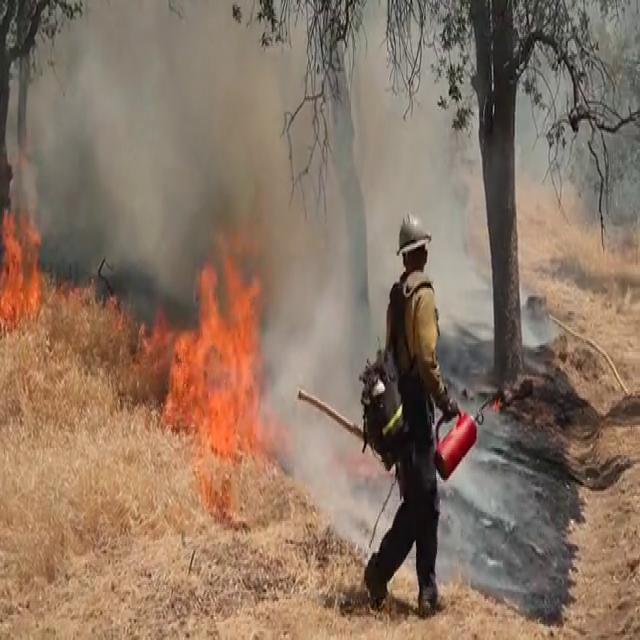fire: (193, 382, 255, 457), (4, 252, 39, 316), (218, 248, 248, 312), (182, 330, 214, 380), (194, 272, 220, 332), (220, 366, 252, 414), (220, 315, 252, 358), (171, 352, 191, 404), (7, 218, 30, 260)
smoke: (113, 103, 185, 210), (156, 37, 206, 117), (121, 27, 163, 105), (162, 187, 205, 262), (63, 103, 111, 167), (113, 206, 158, 274), (82, 24, 123, 98), (198, 105, 236, 178), (73, 166, 113, 233), (300, 284, 338, 346), (278, 410, 320, 463), (48, 194, 86, 252), (264, 359, 298, 422), (38, 137, 70, 198), (273, 304, 307, 358), (45, 52, 80, 102), (29, 82, 62, 133)
